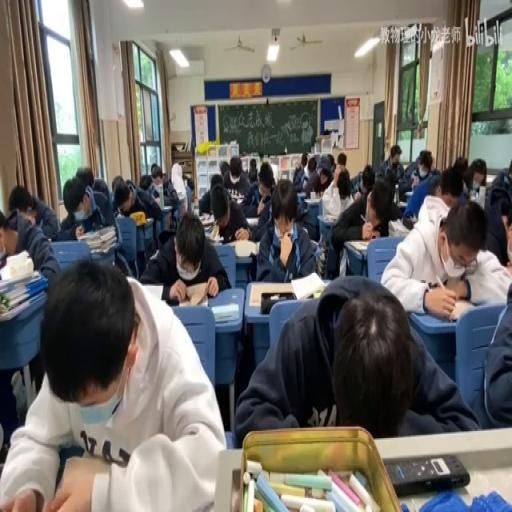calculator: (247, 282, 290, 308), (290, 268, 326, 298), (173, 279, 211, 304), (210, 300, 238, 322), (233, 238, 258, 256), (388, 218, 410, 236), (198, 212, 216, 232), (140, 282, 162, 298), (90, 239, 115, 253), (346, 239, 370, 253), (78, 226, 102, 240), (204, 233, 222, 243), (303, 196, 322, 205), (322, 212, 338, 222), (245, 214, 258, 224), (468, 186, 478, 199), (230, 196, 244, 205), (309, 239, 318, 250), (143, 216, 152, 225), (404, 191, 414, 199), (160, 204, 173, 210), (175, 191, 184, 199), (398, 198, 407, 206)
paper: (5, 258, 224, 510), (234, 272, 478, 440), (380, 194, 509, 317), (142, 206, 228, 300), (254, 176, 316, 279), (0, 192, 59, 292), (473, 276, 511, 427), (330, 174, 397, 254), (56, 172, 110, 242), (110, 176, 160, 230), (398, 151, 435, 213), (486, 155, 512, 212), (196, 170, 226, 218), (222, 154, 250, 199), (378, 142, 403, 191), (464, 156, 487, 194), (358, 164, 376, 198), (75, 164, 95, 192), (159, 178, 179, 206), (0, 224, 18, 254), (292, 154, 307, 189), (258, 160, 274, 190), (453, 154, 469, 176), (306, 152, 322, 172), (170, 162, 182, 188), (247, 156, 258, 182), (139, 172, 154, 191), (337, 181, 349, 202), (150, 164, 164, 180), (334, 166, 346, 184), (112, 174, 125, 190), (336, 151, 346, 168), (184, 175, 194, 192), (326, 154, 334, 172), (414, 155, 422, 169), (294, 160, 301, 170)
person: (385, 452, 470, 494)
